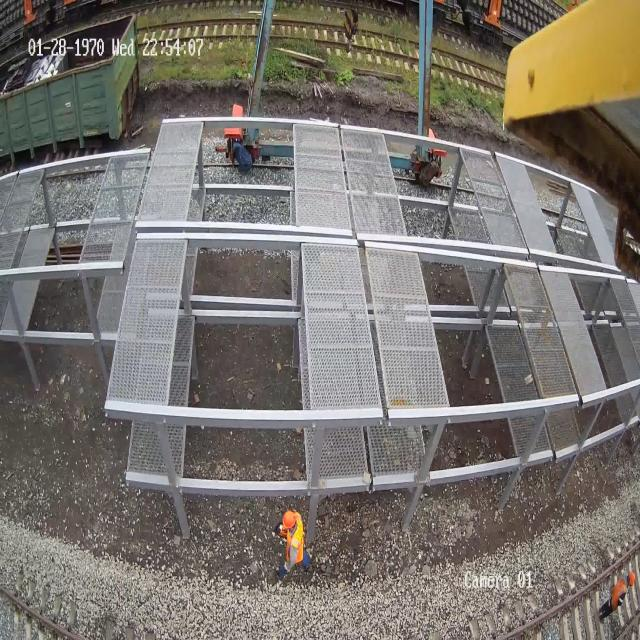Helmet: (620, 565, 638, 587), (282, 509, 296, 528)
Person: (275, 508, 310, 580), (590, 571, 640, 619)
